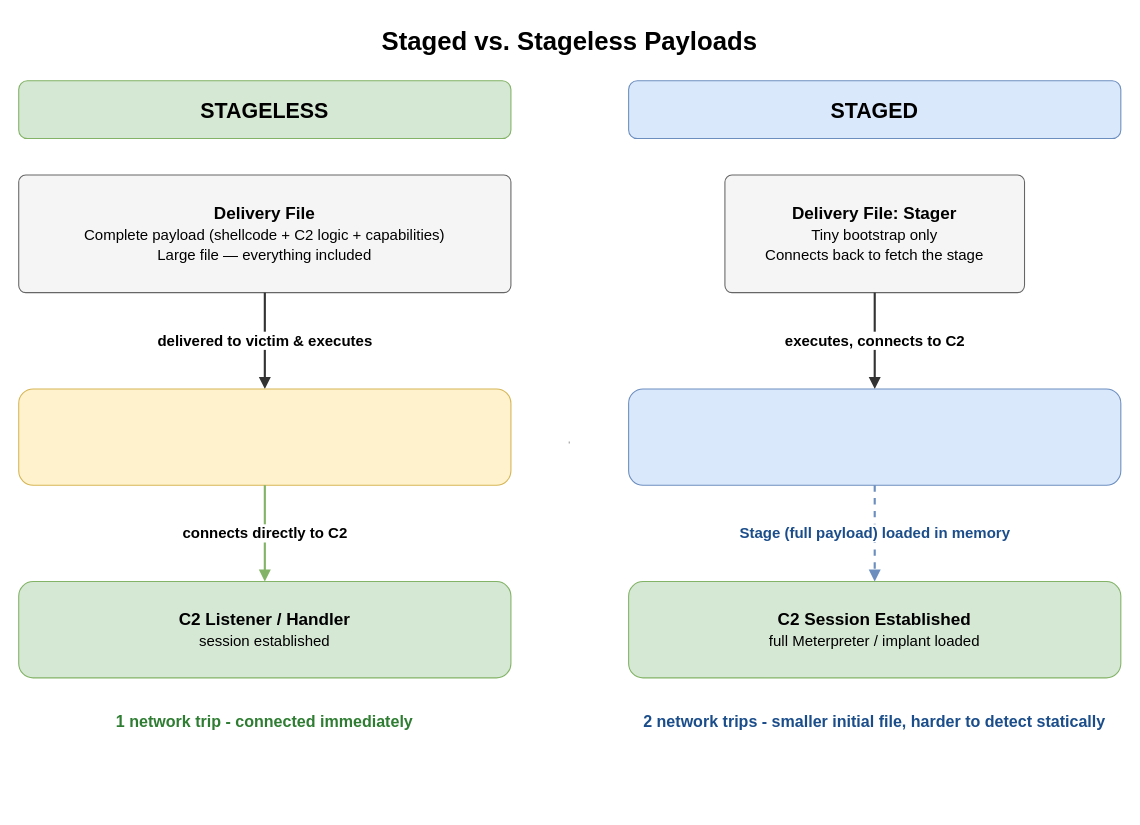
Some shapes in this 1140 by 825 pixel diagram are drawn without their labels. The centre of each missing label's shape, as x and y in pixels:
"C2 Server sends back Stage (full payload)" goes at point 874,436.
"Victim Executes Payload no further download needed" goes at point 264,436.
